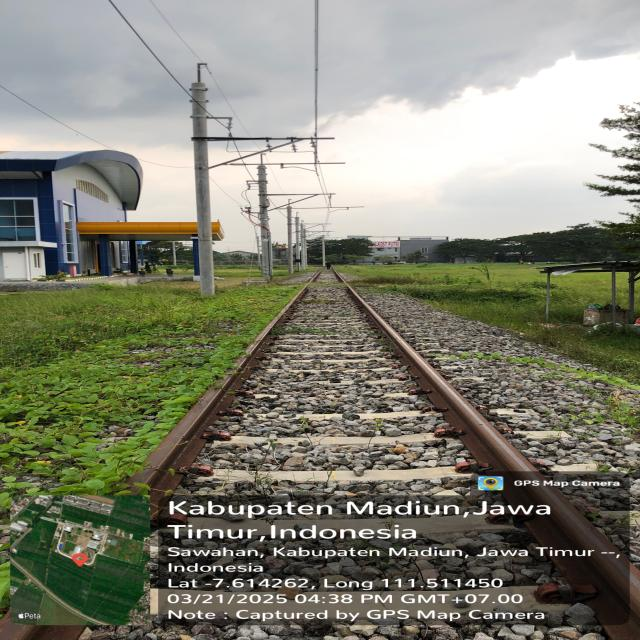rail-detection: (347, 288, 640, 640), (136, 286, 308, 515)
